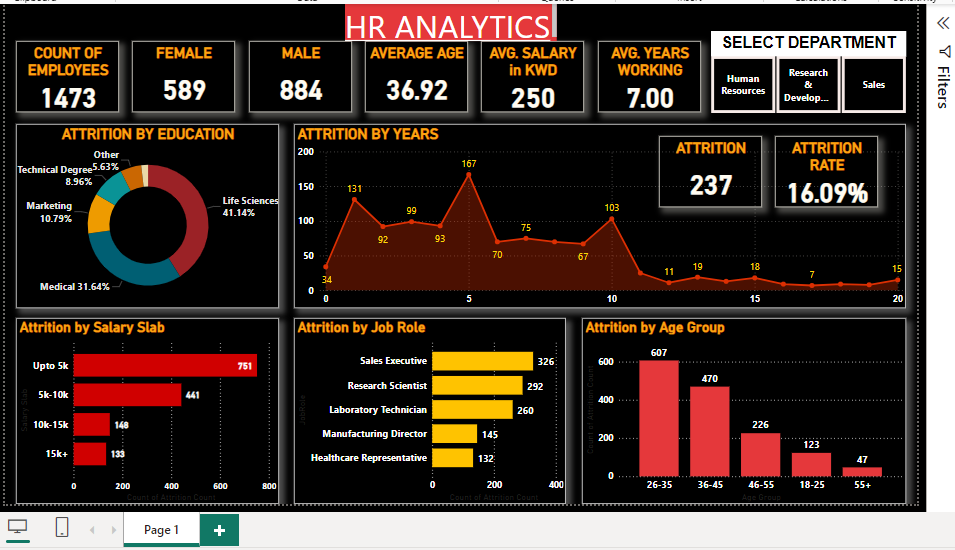

This screenshot's page, from the dashboard's own definition file:
{"tool":"powerbi","page":{"name":"Page 1","canvas":[1550,850],"ordinal":0},"visuals":[{"type":"card","title":"COUNT OF EMPLOYEES","fields":{"Values":["CountNonNull(HR_Analytics.EmpID)"]},"box":[18.7,62.9,175.1,120.7],"z":0},{"type":"card","title":"ATTRITION","fields":{"Values":["CountNonNull(HR_Analytics.Attrition)"]},"box":[1111.8,224.4,175.1,120.7],"z":1000},{"type":"card","title":"AVERAGE AGE","fields":{"Values":["Avg(HR_Analytics.Age)"]},"box":[612,62.9,175.1,120.7],"z":2000},{"type":"card","title":"AVG. SALARY in KWD","fields":{"Values":["Avg(HR_Analytics.salary in KD)"]},"box":[810,62.9,175.1,120.7],"z":3000},{"type":"card","title":"AVG. YEARS WORKING ","fields":{"Values":["Avg(HR_Analytics.YearsAtCompany)"]},"box":[1008,62.9,175.1,120.7],"z":4000},{"type":"donutChart","title":"ATTRITION BY EDUCATION","fields":{"Category":["HR_Analytics.Education Field"],"Y":["CountNonNull(HR_Analytics.Attrition Count)"]},"box":[18.7,204,447.1,312.8],"z":5000},{"type":"columnChart","title":"Attrition by Age Group","fields":{"Category":["HR_Analytics.Age Group"],"Y":["CountNonNull(HR_Analytics.Attrition Count)"]},"box":[980.9,533.8,550.8,316.2],"z":6000},{"type":"barChart","title":"Attrition by Job Role","fields":{"Y":["CountNonNull(HR_Analytics.Attrition Count)"],"Category":["HR_Analytics.JobRole"]},"box":[491.3,533.8,462.4,316.2],"z":7000},{"type":"barChart","title":"Attrition by Salary Slab","fields":{"Category":["HR_Analytics.Salary Slab"],"Y":["CountNonNull(HR_Analytics.Attrition Count)"]},"box":[18.7,533.8,447.1,316.2],"z":8000},{"type":"areaChart","title":"ATTRITION BY YEARS","fields":{"Category":["HR_Analytics.YearsAtCompany"],"Y":["CountNonNull(HR_Analytics.Attrition Count)"]},"box":[491.3,204,1040.4,312.8],"z":9000},{"type":"card","title":"MALE","fields":{"Values":["CountNonNull(HR_Analytics.Gender)"]},"box":[414,62.9,175.1,120.7],"z":10000},{"type":"card","title":"FEMALE","fields":{"Values":["CountNonNull(HR_Analytics.Gender)"]},"box":[216,62.9,175.1,120.7],"z":11000},{"type":"slicer","fields":{"Values":["HR_Analytics.Department"]},"box":[1181.5,88.4,368.9,96.9],"z":12000},{"type":"textbox","box":[1200.2,45.9,331.5,42.5],"z":13000},{"type":"textbox","box":[578,0,360.4,62.9],"z":14000},{"type":"card","title":"ATTRITION RATE","fields":{"Values":["HR_Analytics.ATTRITION RATE"]},"box":[1309,224.4,175.1,120.7],"z":15000}]}

Visuals, with their boxes in screenshot pixels (x1, y1, x2, y2):
"COUNT OF EMPLOYEES" card: [x1=16, y1=39, x2=119, y2=110]
"ATTRITION" card: [x1=657, y1=134, x2=759, y2=205]
"AVERAGE AGE" card: [x1=364, y1=39, x2=466, y2=110]
"AVG. SALARY in KWD" card: [x1=480, y1=39, x2=582, y2=110]
"AVG. YEARS WORKING " card: [x1=596, y1=39, x2=698, y2=110]
"ATTRITION BY EDUCATION" donutChart: [x1=16, y1=122, x2=278, y2=305]
"Attrition by Age Group" columnChart: [x1=580, y1=315, x2=903, y2=501]
"Attrition by Job Role" barChart: [x1=293, y1=315, x2=564, y2=501]
"Attrition by Salary Slab" barChart: [x1=16, y1=315, x2=278, y2=501]
"ATTRITION BY YEARS" areaChart: [x1=293, y1=122, x2=903, y2=305]
"MALE" card: [x1=248, y1=39, x2=350, y2=110]
"FEMALE" card: [x1=132, y1=39, x2=234, y2=110]
slicer - HR_Analytics.Department: [x1=697, y1=54, x2=914, y2=111]
textbox: [x1=708, y1=29, x2=903, y2=54]
textbox: [x1=344, y1=2, x2=555, y2=39]
"ATTRITION RATE" card: [x1=772, y1=134, x2=875, y2=205]
